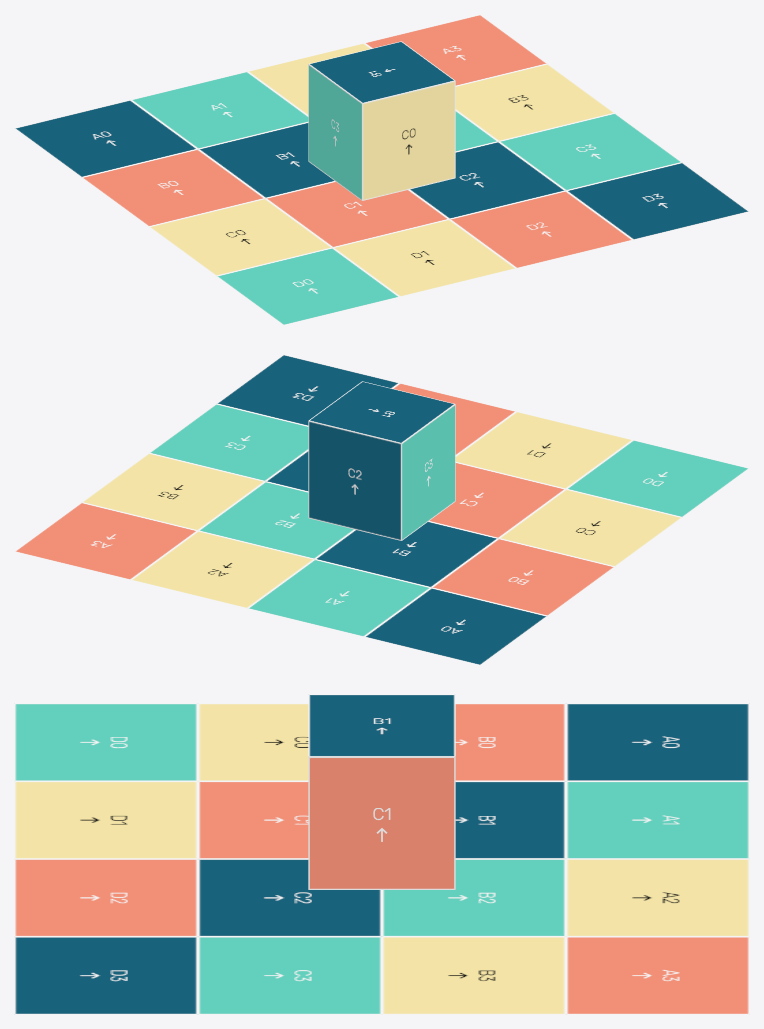
File: cube_and_plane.gltf
The picture shows the model from 3 angles, top to bottom: view 1: azimuth 30°, elevation 25°; view 2: azimuth 150°, elevation 25°; view 3: azimuth 270°, elevation 25°; orthographic projection. The views are drawn at different scales.
Parts seen in each view (by area): view 1: Plane; view 2: Plane; view 3: Plane.
Boxes of the visible parts, <box> form: Plane: <box>14,14,749,325</box>; Plane: <box>14,354,749,665</box>; Plane: <box>14,694,749,1014</box>.
Size of the model in its own units: 10 by 2 by 10.
1 material, 1 textured.
